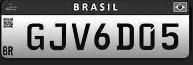placa_mercosul: (0, 0, 192, 59)
